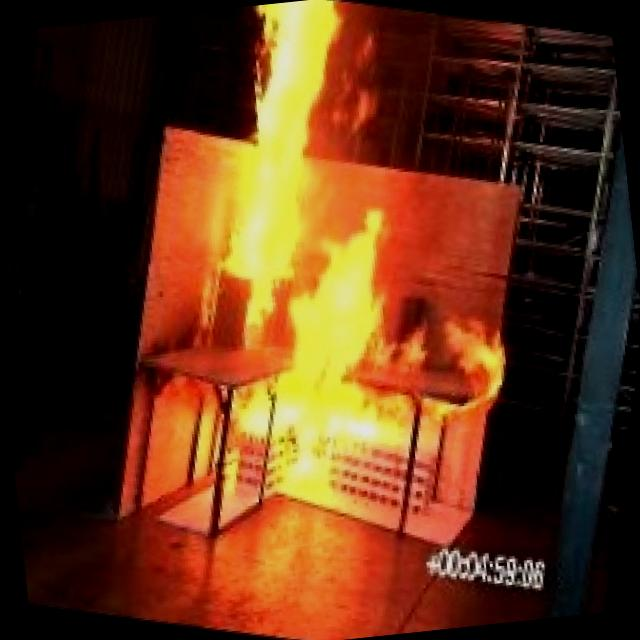fire: (96, 0, 615, 575)
